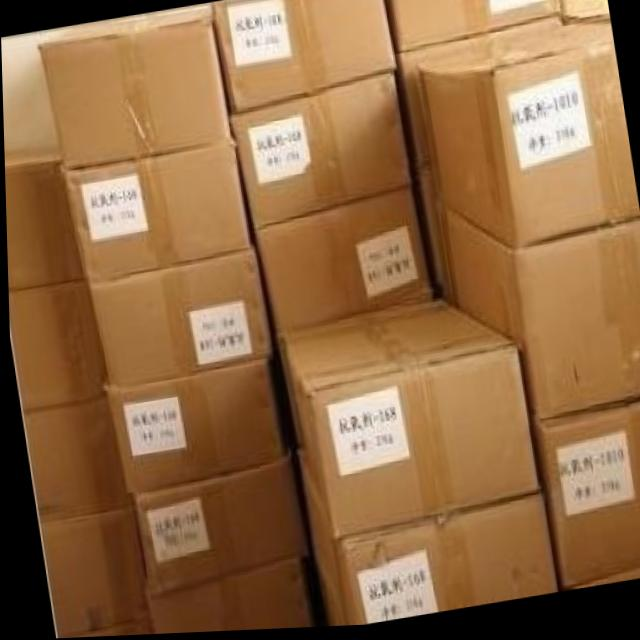box: (276, 298, 534, 541), (420, 29, 637, 248), (433, 195, 640, 421), (294, 447, 552, 627), (38, 5, 231, 164), (230, 70, 409, 229), (395, 13, 565, 171), (63, 139, 248, 281), (253, 188, 430, 336), (127, 456, 307, 597), (100, 356, 281, 495), (83, 250, 269, 382), (529, 403, 640, 593), (213, 0, 395, 110), (34, 506, 143, 637), (20, 394, 128, 521), (7, 278, 106, 410), (141, 559, 306, 635), (3, 145, 82, 290), (386, 0, 563, 55), (409, 170, 446, 304), (53, 614, 149, 639), (561, 0, 608, 28)
